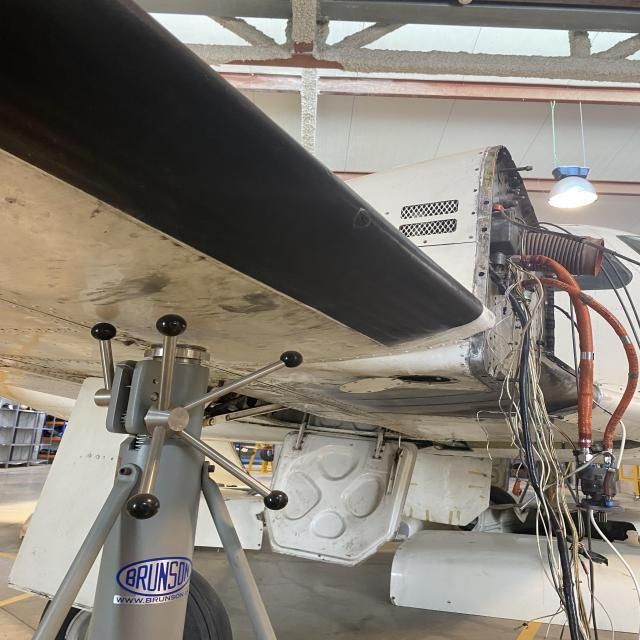Fastener Damage: (469, 211, 476, 216), (422, 239, 428, 244), (472, 188, 477, 192)
